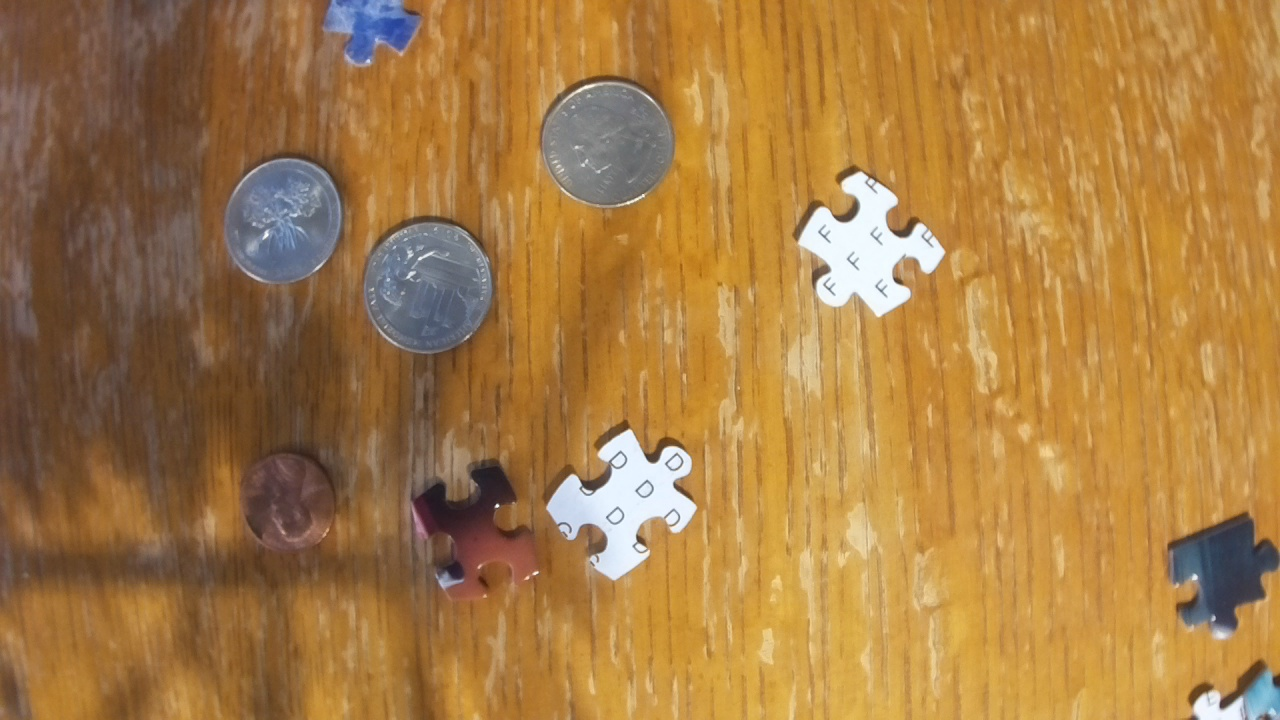penny: (237, 451, 339, 554)
quarter: (360, 217, 495, 357), (538, 77, 676, 210), (222, 152, 347, 285)
